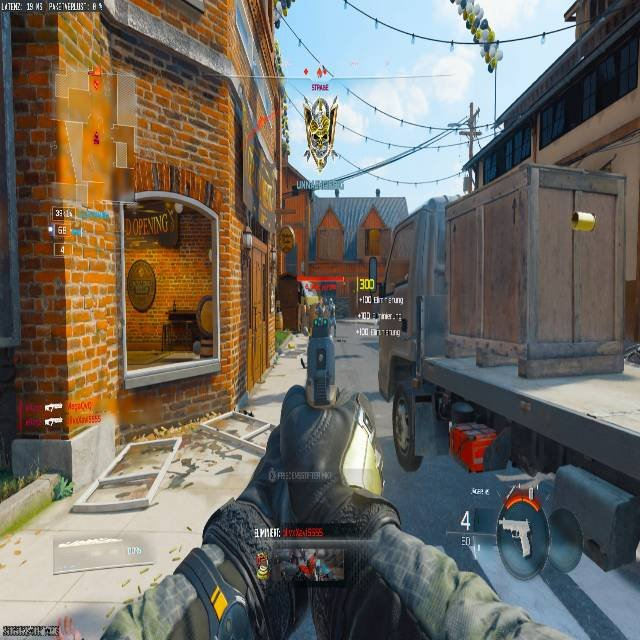player: (446, 0, 508, 73)
